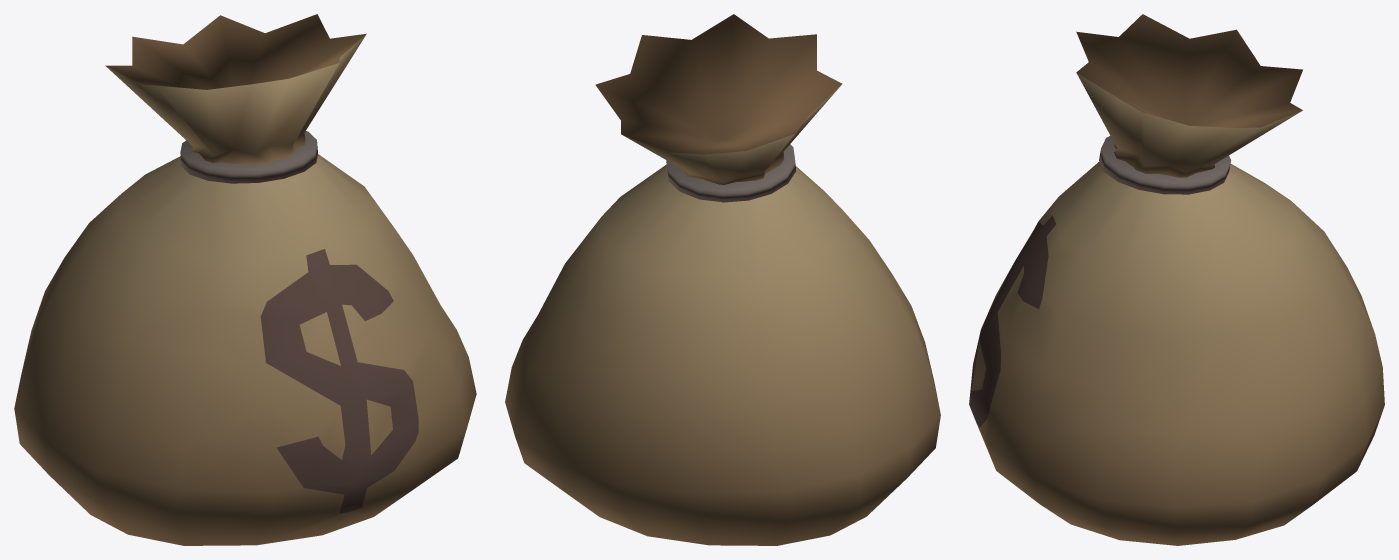
3 renders of one model, left to right at view 1: azimuth 30°, elevation 25°; view 2: azimuth 150°, elevation 25°; view 3: azimuth 270°, elevation 25°, orthographic. The views are drawn at different scales.
Parts seen in each view (by area): view 1: MoneyBag_Roll; view 2: MoneyBag_Roll; view 3: MoneyBag_Roll.
Boxes of the visible parts, x1,y1,x2,y2 form: MoneyBag_Roll: [14, 14, 476, 545]; MoneyBag_Roll: [505, 14, 940, 545]; MoneyBag_Roll: [969, 14, 1384, 545].
Size of the model in its own units: 0.4476 by 0.5 by 0.4205.
